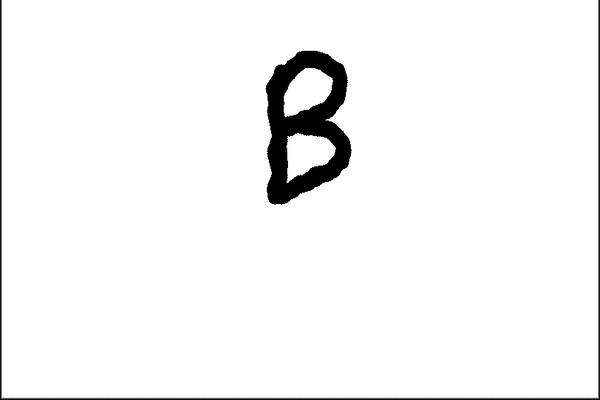B: (255, 43, 360, 208)
